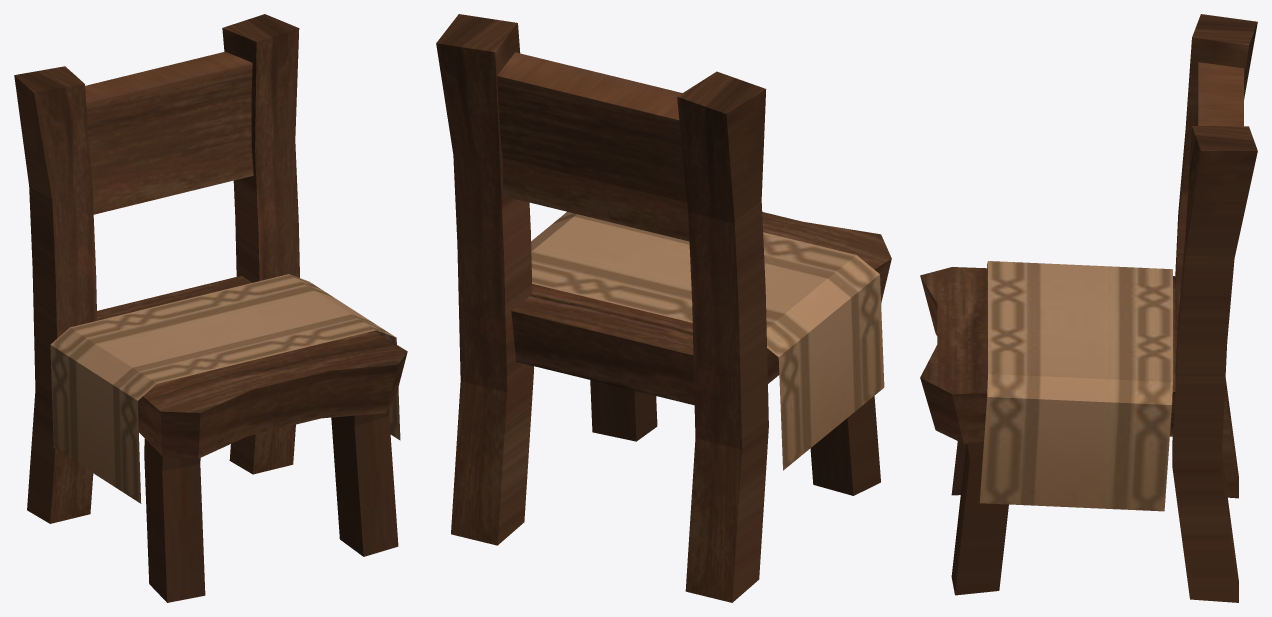
The model's file is Chair_01.glb.
The picture shows the model from 3 angles, left to right: view 1: azimuth 30°, elevation 25°; view 2: azimuth 150°, elevation 25°; view 3: azimuth 270°, elevation 25°; orthographic projection. The views are drawn at different scales.
Visible parts, largest first — view 1: Chair_01; view 2: Chair_01; view 3: Chair_01.
Part boxes in pixels (x1,y1,x2,y2): Chair_01: [14, 14, 407, 602]; Chair_01: [436, 14, 891, 602]; Chair_01: [920, 14, 1257, 602].
Bounding box in the file's own units: 1.61 × 2.52 × 1.68.
Materials: 1 (1 with a texture image).
